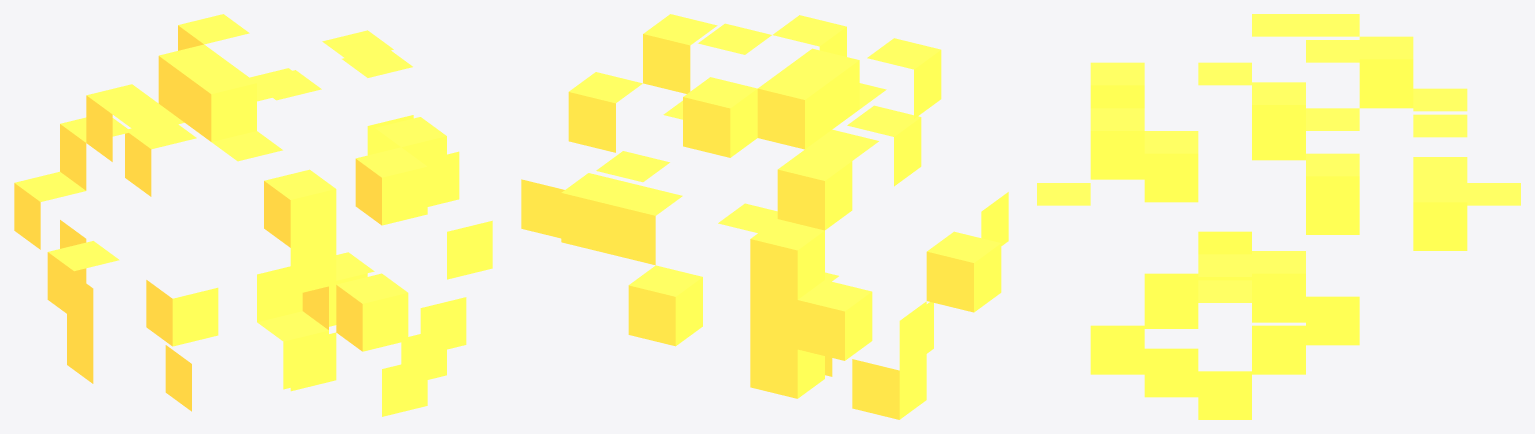
Rendered from tree-maple-0p9-gold-e0ab35.gltf.
The picture shows the model from 3 angles, left to right: view 1: azimuth 30°, elevation 25°; view 2: azimuth 150°, elevation 25°; view 3: azimuth 270°, elevation 25°; orthographic projection. The views are drawn at different scales.
Parts seen in each view (by area): view 1: tree-maple-0p9-gold-e0ab35; view 2: tree-maple-0p9-gold-e0ab35; view 3: tree-maple-0p9-gold-e0ab35.
Part boxes in pixels (left/top/right/bottom): tree-maple-0p9-gold-e0ab35: left=14, top=14, right=492, bottom=416; tree-maple-0p9-gold-e0ab35: left=521, top=14, right=1008, bottom=419; tree-maple-0p9-gold-e0ab35: left=1037, top=14, right=1520, bottom=419.
Size of the model in its own units: 9 by 6 by 9.
